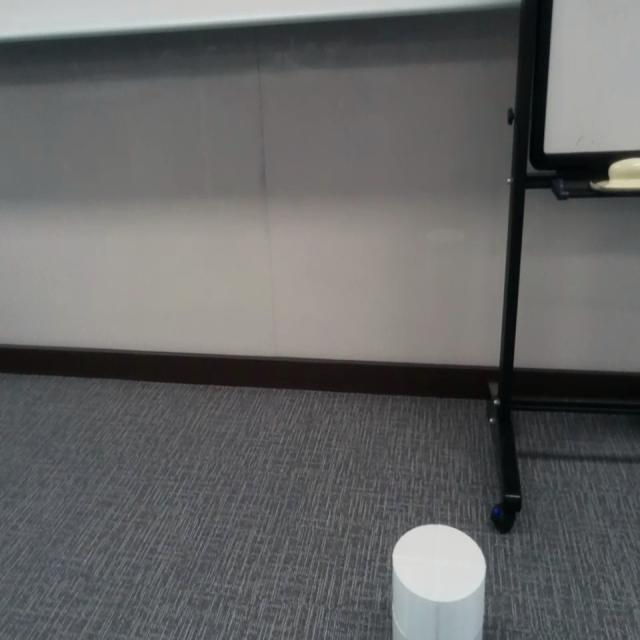cylinder: (392, 522, 488, 640)
